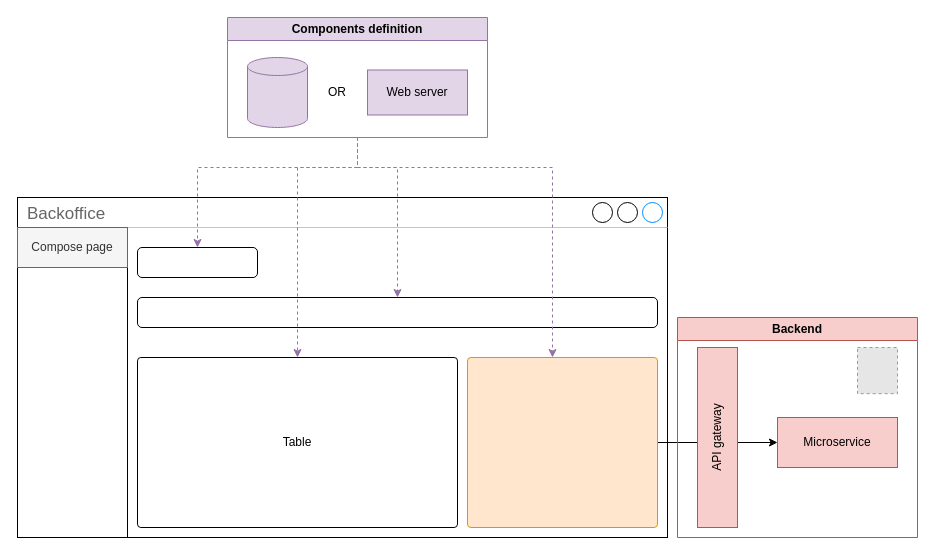
Image size: 935x556. Some labels were removed from this diagram. Grey dashed boxes stand in for pictures. The centre of each missing label's shape, as x and y in pixels:
Button: (x=197, y=262)
CDN: (x=277, y=92)
Client: (x=562, y=442)
Tabs: (x=397, y=312)
